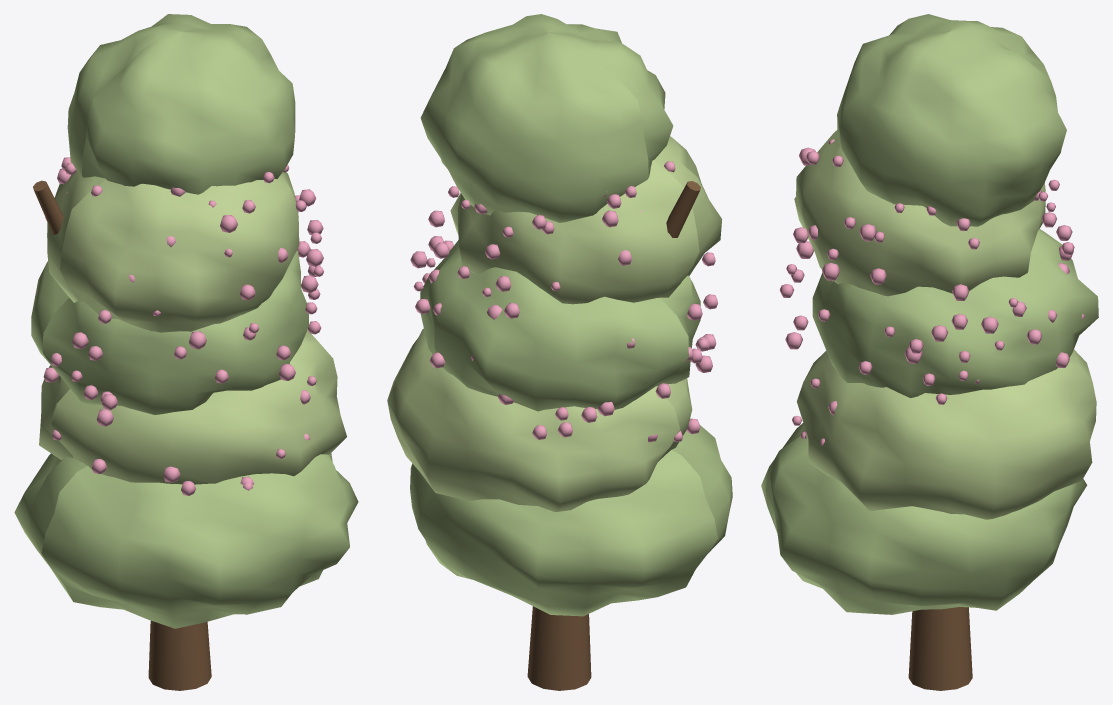
Rendered from oszlopos-diszalma-fa-tavasz.glb.
The picture shows the model from 3 angles, left to right: view 1: azimuth 30°, elevation 25°; view 2: azimuth 150°, elevation 25°; view 3: azimuth 270°, elevation 25°; orthographic projection.
Visible parts, largest first — view 1: oszlop-1, oszlop-5, oszlop-4, oszlop-2, oszlop-3, virag, torzs, vazag-3-5; view 2: oszlop-5, oszlop-1, oszlop-3, oszlop-2, oszlop-4, virag, torzs, vazag-3-5; view 3: oszlop-5, oszlop-2, oszlop-1, oszlop-3, oszlop-4, virag, torzs.
Boxes of the visible parts, box(x1,y1,x2,y2) form: oszlop-1: box(14, 453, 358, 628); oszlop-5: box(67, 14, 295, 194); oszlop-4: box(47, 170, 299, 332); oszlop-2: box(39, 330, 346, 484); oszlop-3: box(31, 251, 308, 414); virag: box(35, 157, 323, 495); torzs: box(148, 620, 211, 690); vazag-3-5: box(33, 180, 63, 235); oszlop-5: box(420, 14, 673, 222); oszlop-1: box(410, 425, 732, 616); oszlop-3: box(420, 240, 700, 411); oszlop-2: box(387, 328, 692, 512); oszlop-4: box(450, 136, 722, 304); virag: box(410, 161, 717, 442); torzs: box(527, 606, 591, 690); vazag-3-5: box(666, 181, 700, 237); oszlop-5: box(837, 14, 1066, 226); oszlop-2: box(796, 349, 1096, 519); oszlop-1: box(761, 423, 1087, 614); oszlop-3: box(812, 229, 1098, 397); oszlop-4: box(794, 130, 1045, 296); virag: box(779, 139, 1084, 445); torzs: box(908, 607, 972, 690).
Bounding box in the file's own units: 2.37 × 4.95 × 2.33.
